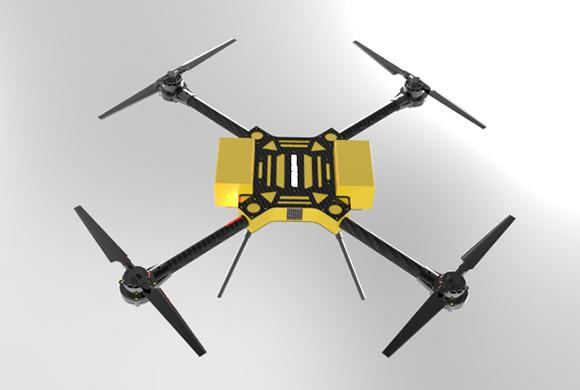drone: (74, 28, 519, 368)
